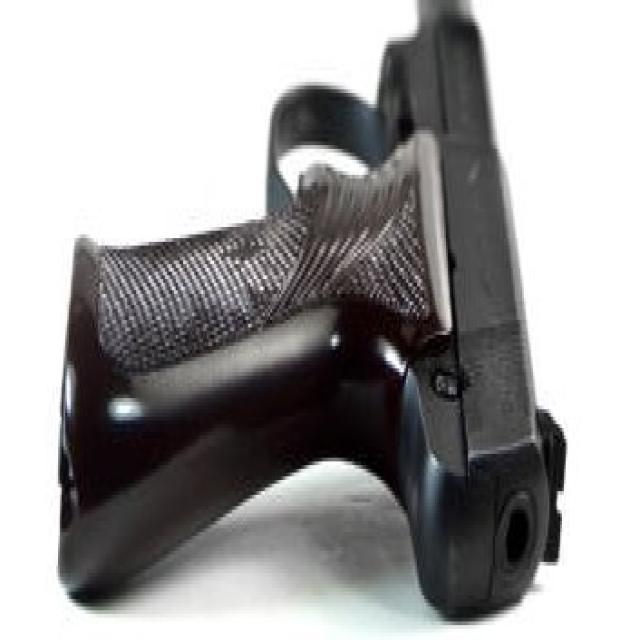pistol: (53, 1, 574, 640)
